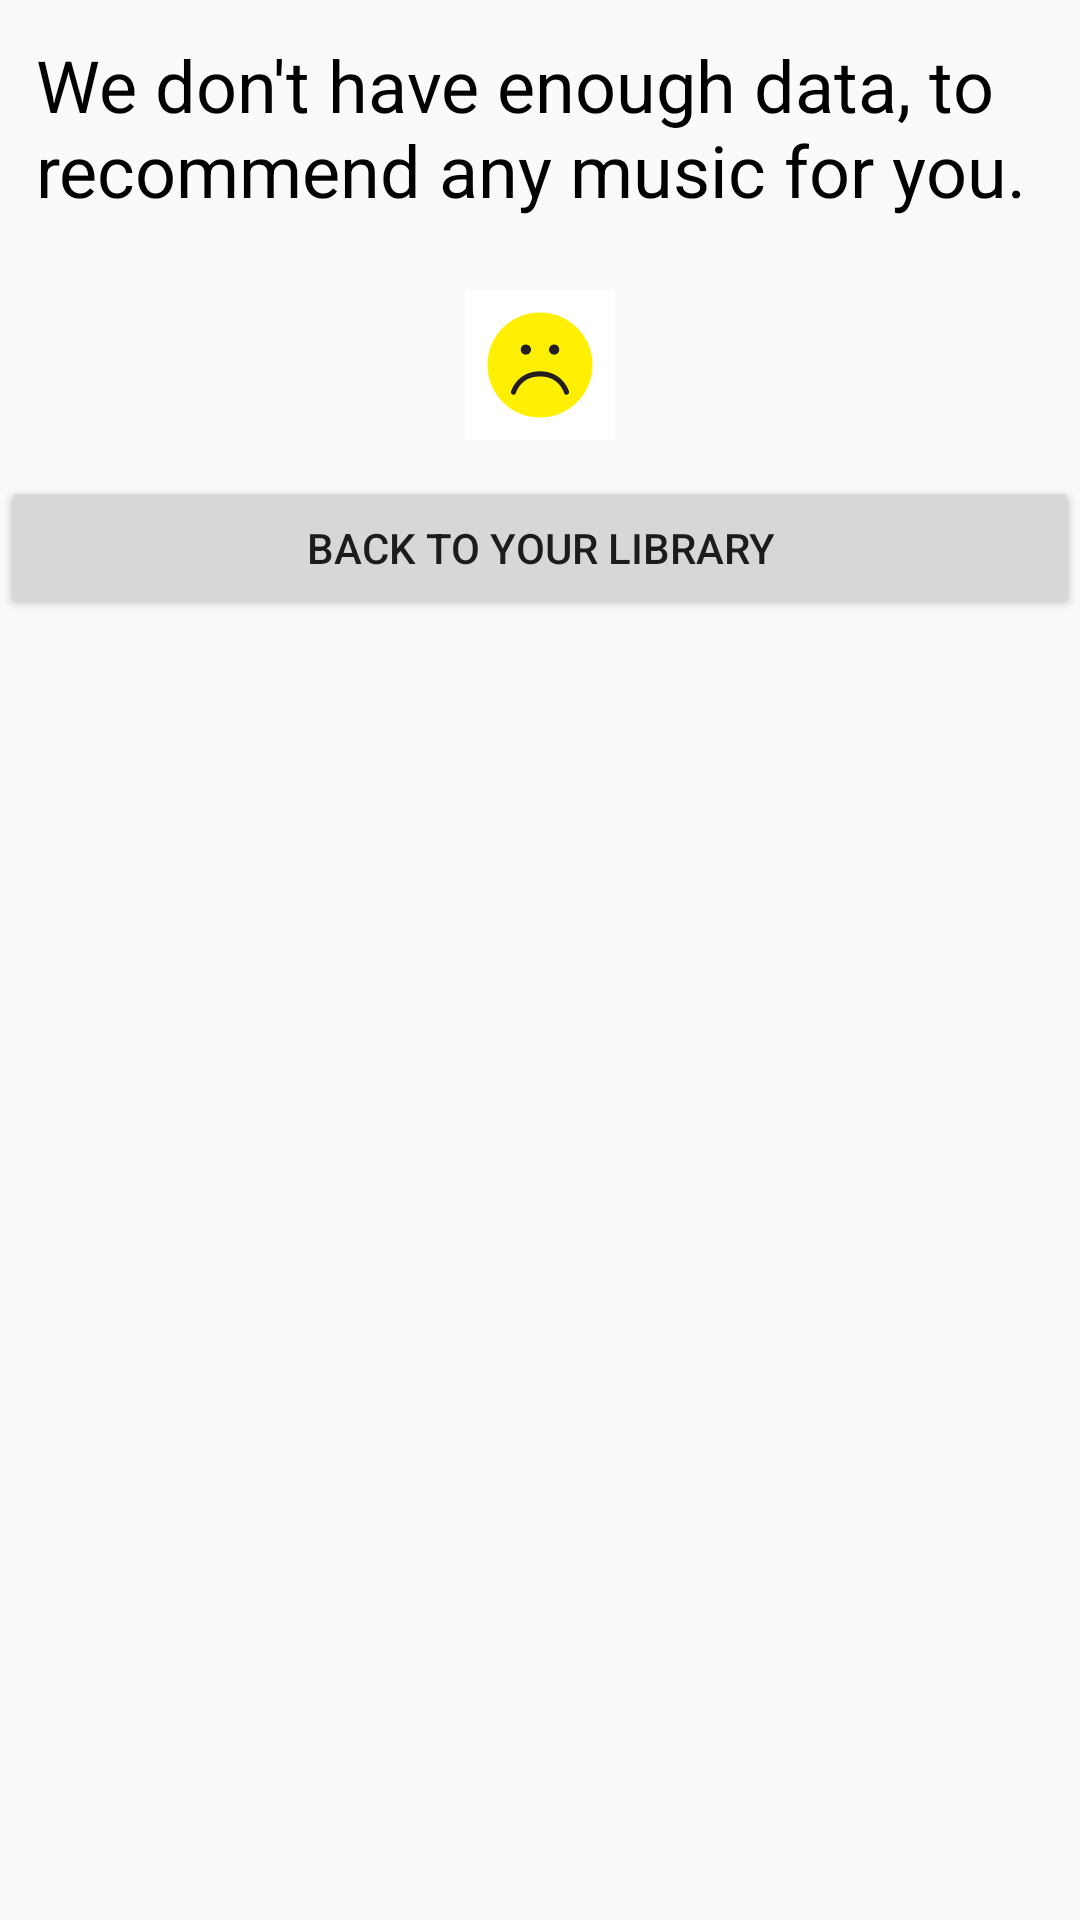

Named icons in this screenshot (1080 x 1920) and their bounding boxes, box(x1, y1, x2, y2):
sadface: box(487, 312, 593, 418)
